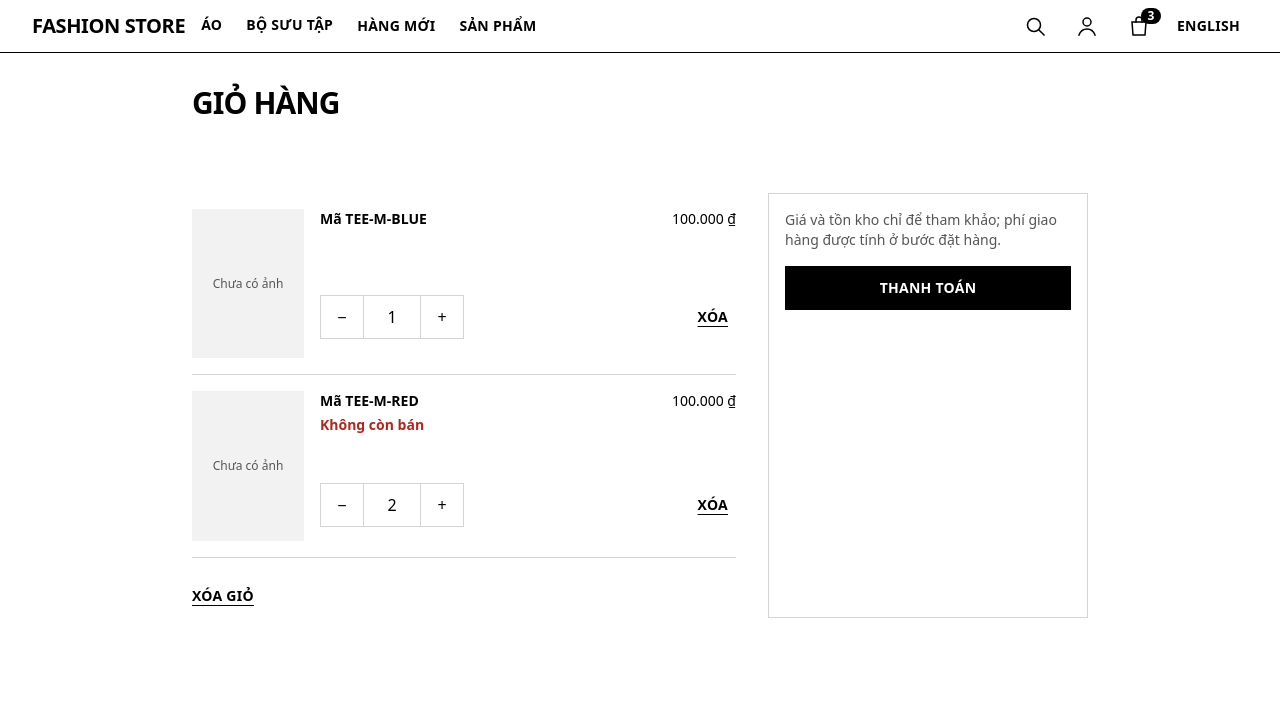
Test: a quantity over the limit says the limit
The width and height of the screenshot is (1280, 720).
Click the button "+" below "TEE-M-BLUE". click: (442, 317)
box: left=420, top=295, right=464, bottom=339
Wait 400 ms
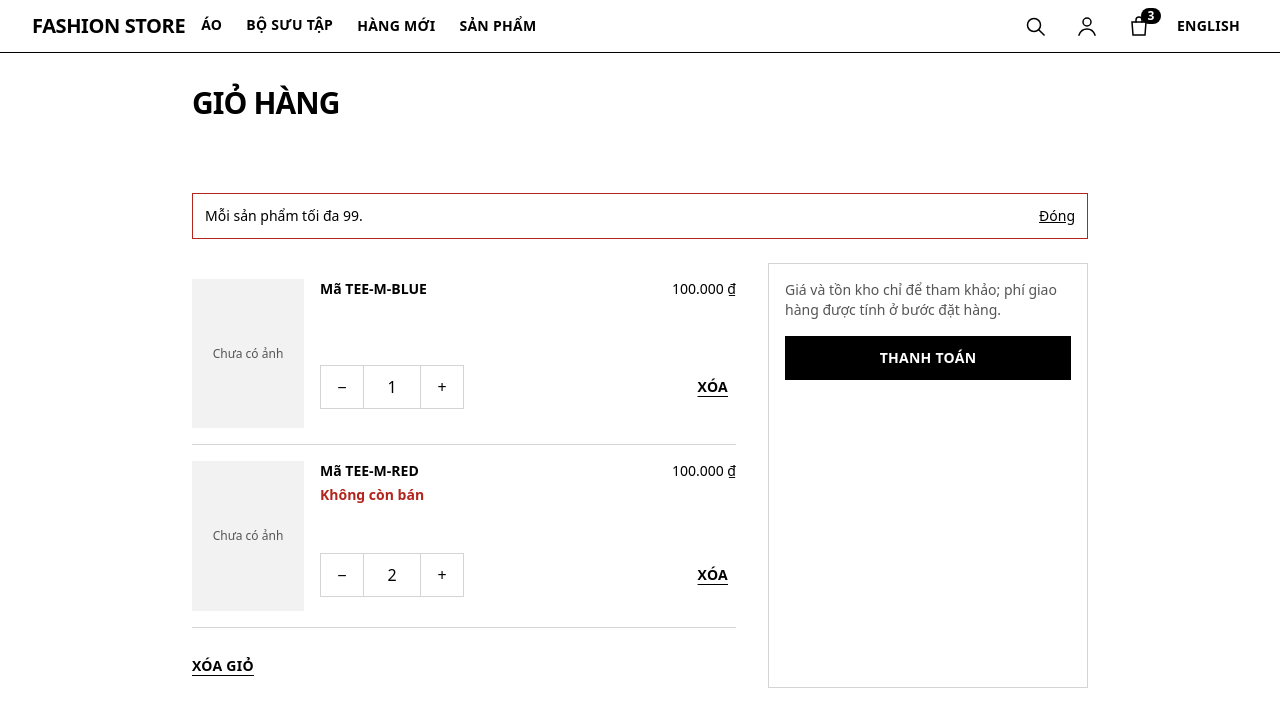
Check: the message "Mỗi sản phẩm tối đa 99. Đóng" is shown, box left=192, top=193, right=1088, bottom=239
